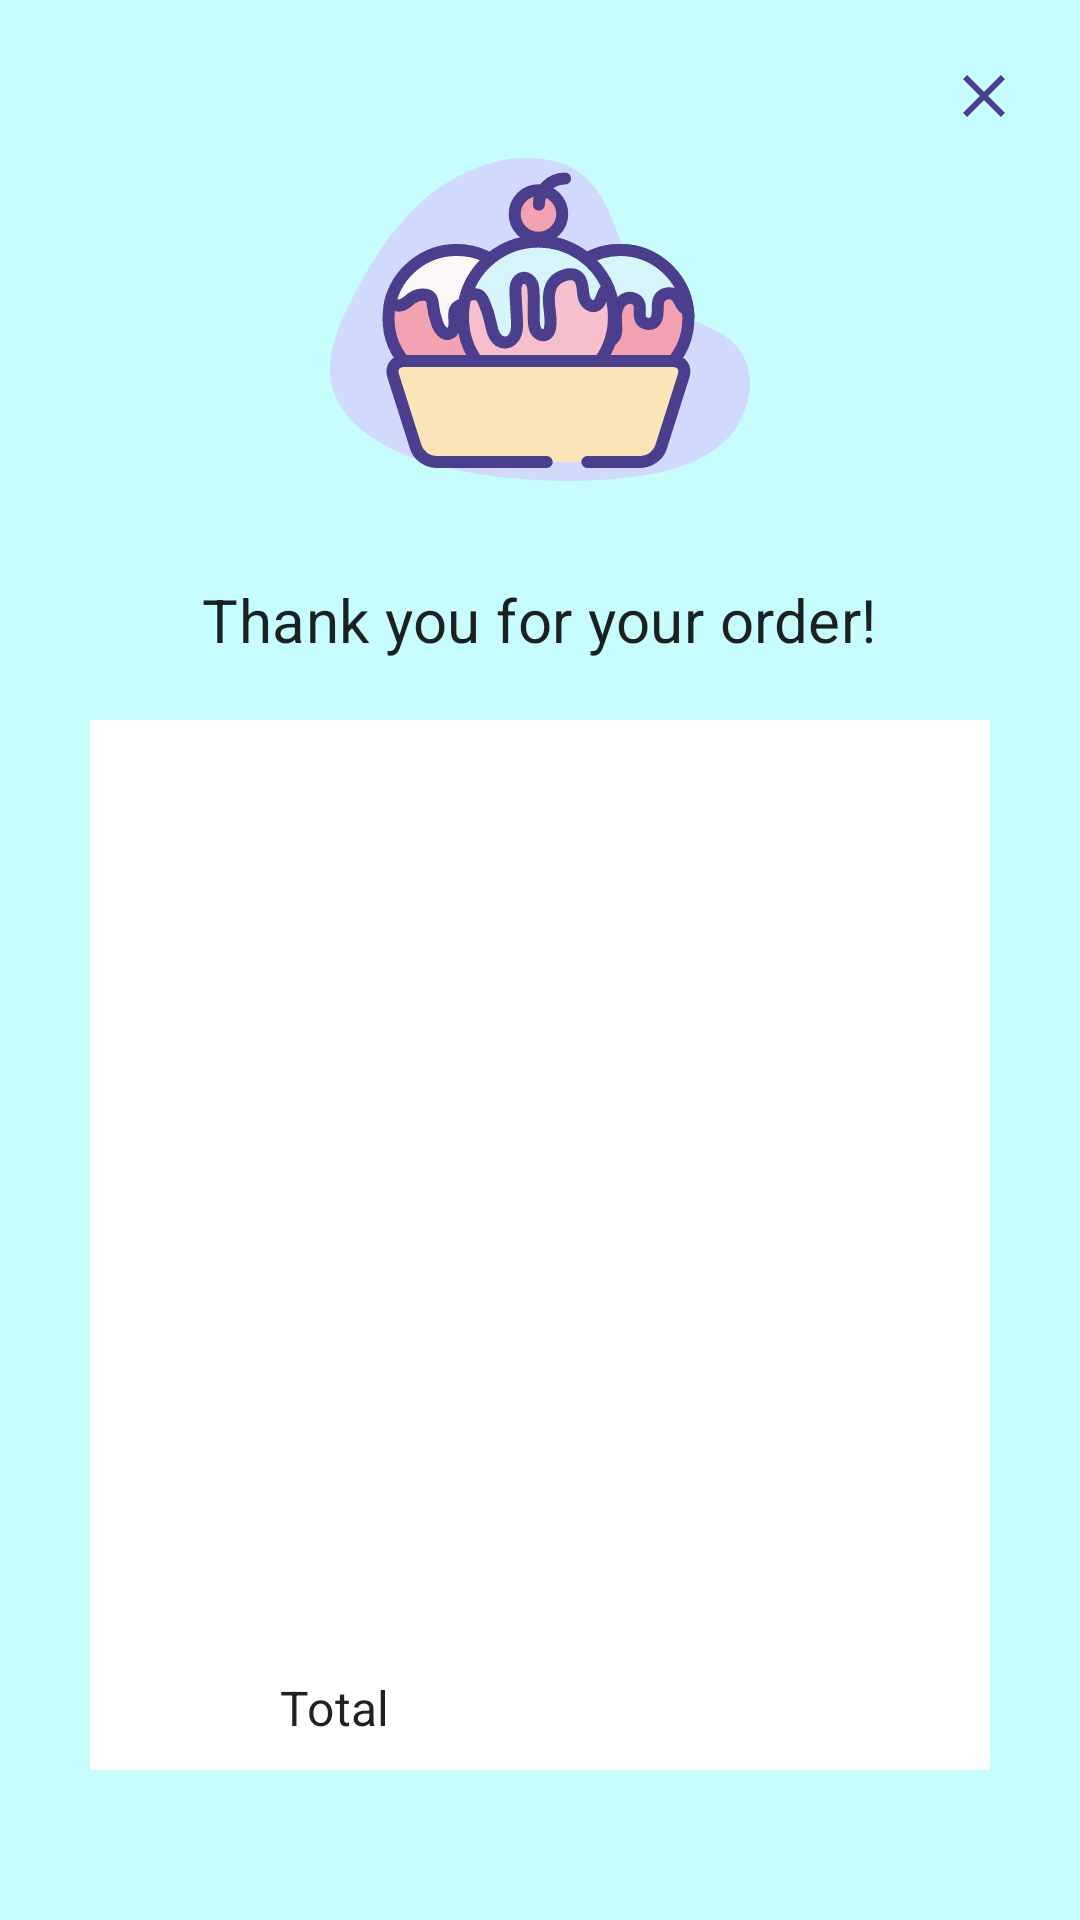

Icon bounding boxes for this 1080 x 1920 phone screenshot, format [x1, y1, x2, y2]:
close: [963, 75, 1005, 117]
